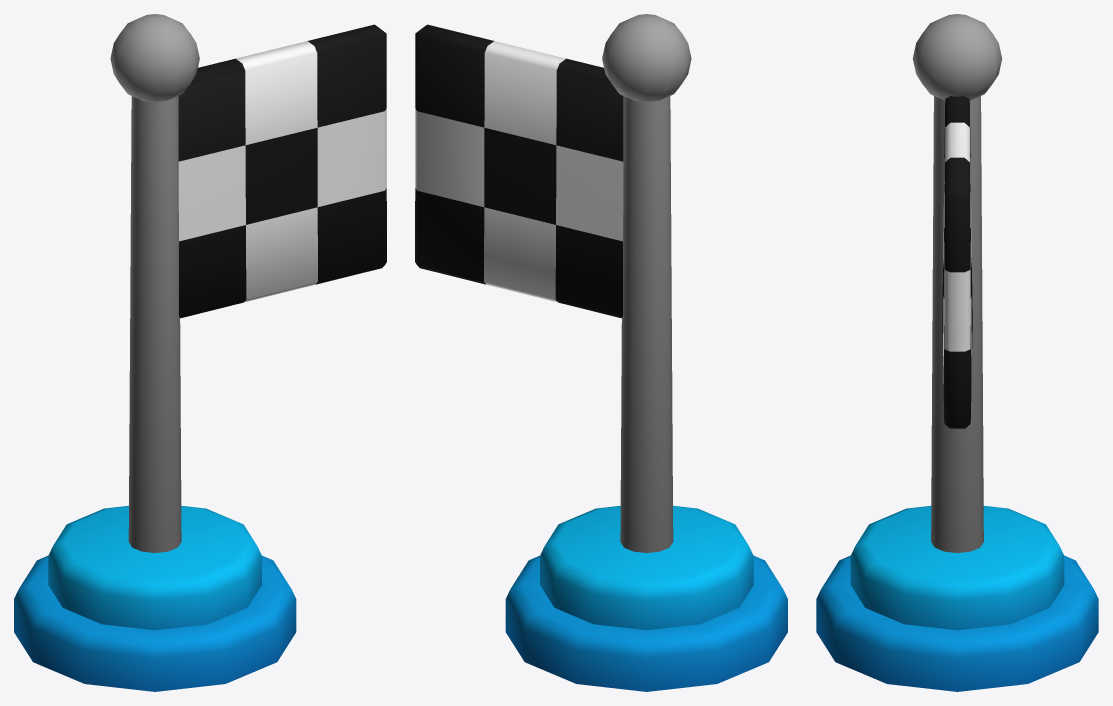
File: Prop_Flag_03.fbx
3 renders of one model, left to right at view 1: azimuth 30°, elevation 25°; view 2: azimuth 150°, elevation 25°; view 3: azimuth 270°, elevation 25°, orthographic.
Visible parts, largest first — view 1: Prop_Flag_03; view 2: Prop_Flag_03; view 3: Prop_Flag_03.
Part boxes in pixels (box(x1,y1,x2,y2)): Prop_Flag_03: box(14, 14, 386, 691); Prop_Flag_03: box(415, 14, 787, 691); Prop_Flag_03: box(816, 14, 1098, 691).
Size of the model in its own units: 67.73 by 114 by 47.27.
